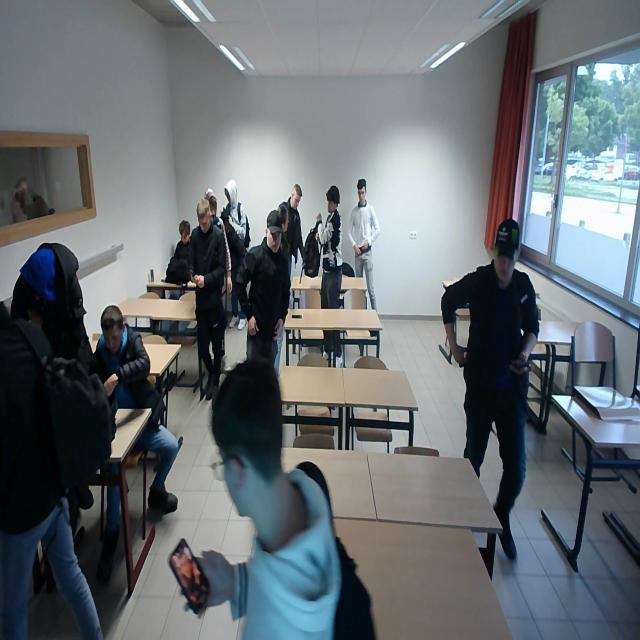Looking away: (100, 305, 124, 356), (493, 241, 518, 281), (263, 217, 285, 253), (324, 187, 341, 215), (290, 185, 302, 211), (357, 178, 367, 204)
Phone use: (157, 353, 361, 635), (182, 185, 230, 358)
